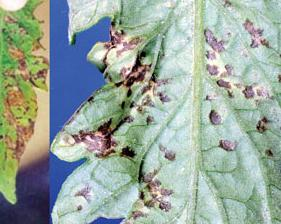Tomato leaf bacterial spot: (51, 0, 281, 222), (0, 0, 49, 208)
